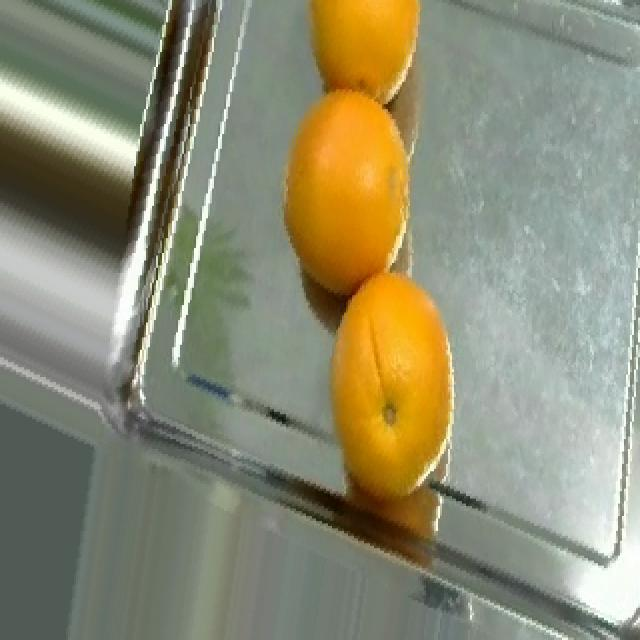Fruit: (288, 0, 438, 127)
